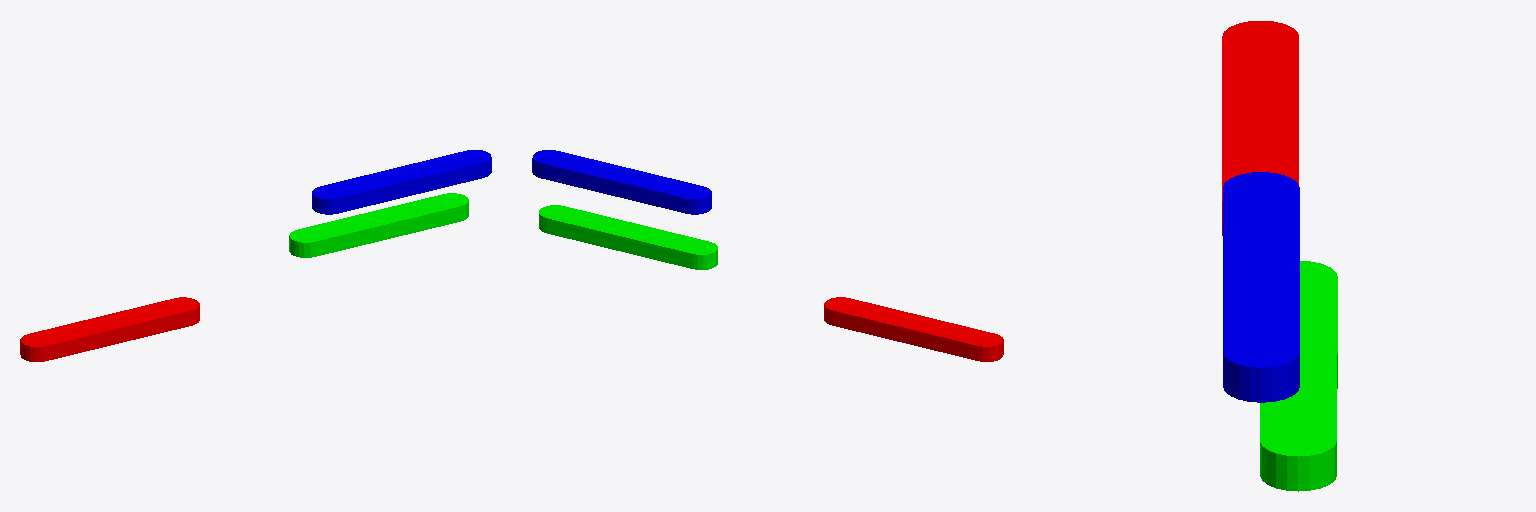
The robot description file, URDF, robot "Assem1":
<robot
  name="Assem1">
  <link
    name="base_link">
    <inertial>
      <origin
        xyz="0.01016 0.00127 -0.00254"
        rpy="0 0 0" />
      <mass
        value="0.00037922" />
      <inertia
        ixx="1"
        ixy="1"
        ixz="1"
        iyy="1"
        iyz="1"
        izz="1" />
    </inertial>
    <visual>
      <origin
        xyz="0 0 0"
        rpy="0 0 0" />
      <geometry>
        <mesh
          filename="package://Assem1/meshes/base_link.STL" />
      </geometry>
      <material
        name="">
        <color
          rgba="1 0 0 1" />
      </material>
    </visual>
    <collision>
      <origin
        xyz="0 0 0"
        rpy="0 0 0" />
      <geometry>
        <mesh
          filename="package://Assem1/meshes/base_link.STL" />
      </geometry>
    </collision>
  </link>
  <link
    name="linkMid">
    <inertial>
      <origin
        xyz="0.0127 0.00127 -8.6736E-19"
        rpy="0 0 0" />
      <mass
        value="0.00037922" />
      <inertia
        ixx="1"
        ixy="1"
        ixz="1"
        iyy="1"
        iyz="1"
        izz="1" />
    </inertial>
    <visual>
      <origin
        xyz="0 0 0"
        rpy="0 0 0" />
      <geometry>
        <mesh
          filename="package://Assem1/meshes/linkMid.STL" />
      </geometry>
      <material
        name="">
        <color
          rgba="0 1 0 1" />
      </material>
    </visual>
    <collision>
      <origin
        xyz="0 0 0"
        rpy="0 0 0" />
      <geometry>
        <mesh
          filename="package://Assem1/meshes/linkMid.STL" />
      </geometry>
    </collision>
  </link>
  <joint
    name="Joint1"
    type="revolute">
    <origin
      xyz="0.02286 0.00254 0.00254"
      rpy="1.5708 -4.9716E-20 -0.00081194" />
    <parent
      link="base_link" />
    <child
      link="linkMid" />
    <axis
      xyz="0 1 0" />
    <limit
      effort="0"
      velocity="0" />
  </joint>
  <link
    name="LinkEnd">
    <inertial>
      <origin
        xyz="-0.0127 0.00127 -8.6736E-19"
        rpy="0 0 0" />
      <mass
        value="0.00037922" />
      <inertia
        ixx="1"
        ixy="1"
        ixz="1"
        iyy="1"
        iyz="1"
        izz="1" />
    </inertial>
    <visual>
      <origin
        xyz="0 0 0"
        rpy="0 0 0" />
      <geometry>
        <mesh
          filename="package://Assem1/meshes/LinkEnd.STL" />
      </geometry>
      <material
        name="">
        <color
          rgba="0 0 1 1" />
      </material>
    </visual>
    <collision>
      <origin
        xyz="0 0 0"
        rpy="0 0 0" />
      <geometry>
        <mesh
          filename="package://Assem1/meshes/LinkEnd.STL" />
      </geometry>
    </collision>
  </link>
  <joint
    name="Joint2"
    type="revolute">
    <origin
      xyz="0.0254000000000002 0.00254 0"
      rpy="3.14159265358979 -0.00173475071437745 -3.14159265358979" />
    <parent
      link="linkMid" />
    <child
      link="LinkEnd" />
    <axis
      xyz="0 1 0" />
  </joint>
</robot>

--- What the picture shows (computed from the rendered views, not written in the file) ---
The picture shows the robot from 3 angles, left to right: view 1: azimuth 30°, elevation 25°; view 2: azimuth 150°, elevation 25°; view 3: azimuth 270°, elevation 25°; orthographic projection.
Robot: Assem1 — 3 links, 2 joints (2 revolute); root link base_link; default pose: every joint at zero.
Links seen in each view (by area): view 1: linkMid, base_link, LinkEnd; view 2: base_link, LinkEnd, linkMid; view 3: LinkEnd, linkMid, base_link.
Link boxes in pixels (x1,y1,x2,y2): linkMid: (289,193,468,257); base_link: (20,297,199,361); LinkEnd: (312,150,491,214); base_link: (824,297,1003,361); LinkEnd: (532,150,711,214); linkMid: (539,205,717,269); LinkEnd: (1223,172,1299,402); linkMid: (1260,261,1337,491); base_link: (1222,21,1298,235).
Bounding box of the posed robot: 0.0813 × 0.0076 × 0.0152 m (x, y, z).
Meshes: 3 distinct files referenced, 3 mesh visuals loaded (3 binary STL).
